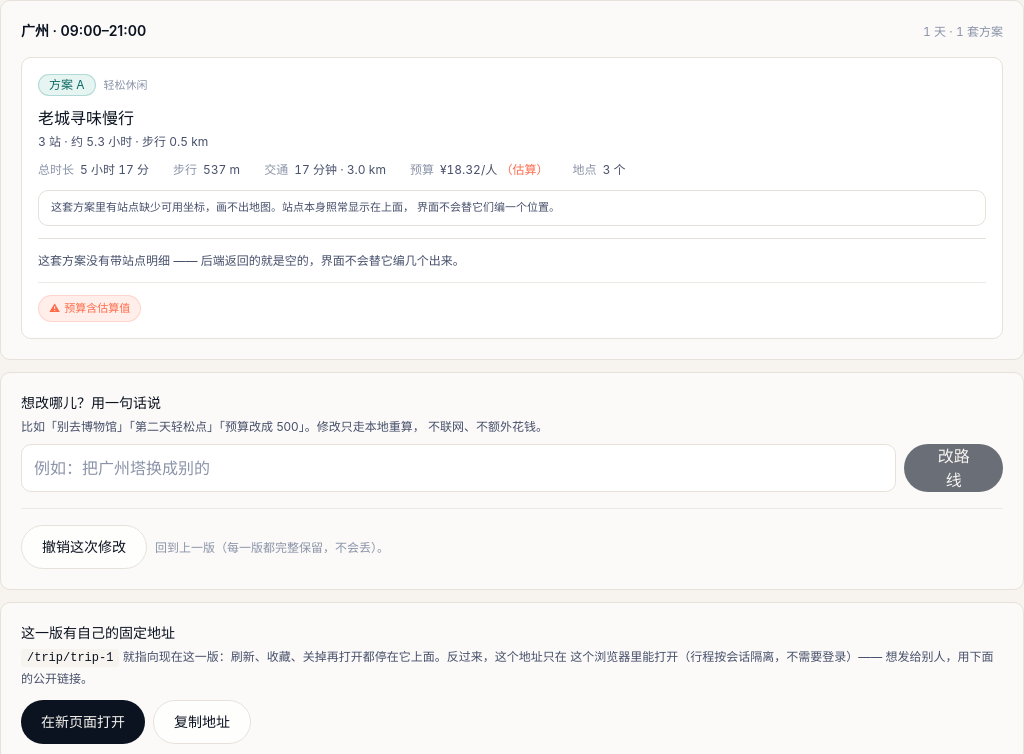
Scenario: 改路线 › ★ 没听懂时当成反问，行程保持不变
Check: the element with test id "trip-result" is shown, box [0,0,1023,360]
Type "随便改改" into the field labelled "想改哪儿？用一句话说" at (459, 468), box [21,444,896,492]
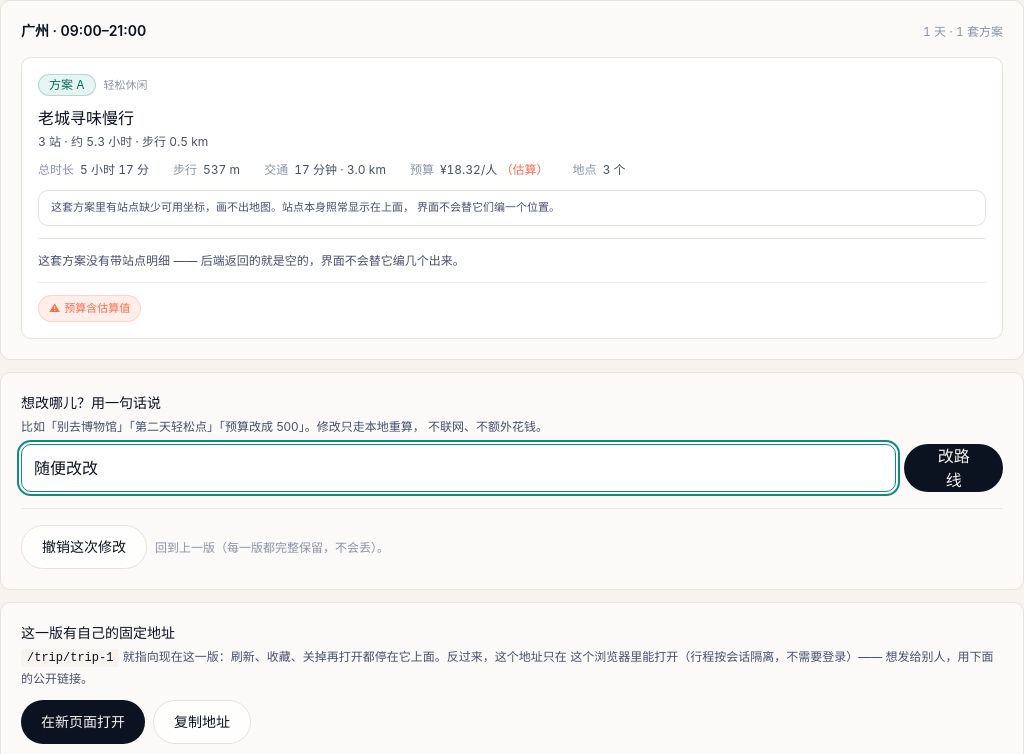
Click the button "改路线" at (954, 468), box [904,444,1003,492]
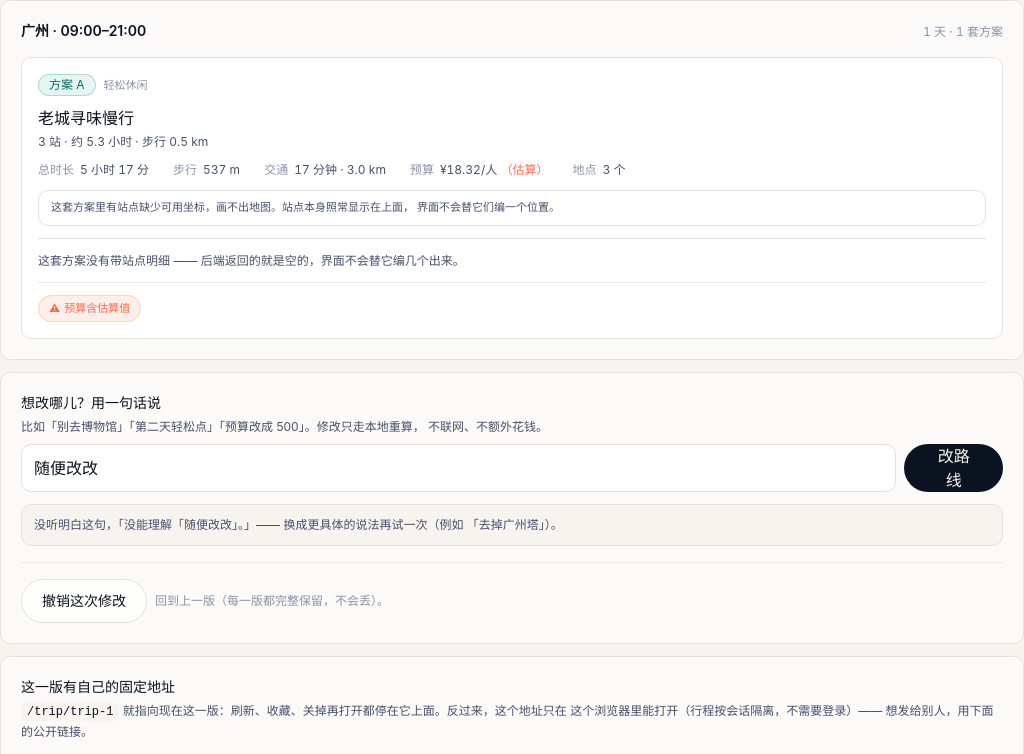
Check: the heading "老城寻味慢行" is shown, box [38,108,134,128]
Check: the text with test id "revision-clarify" shows "没能理解「随便改改」。", box [124,517,244,532]
